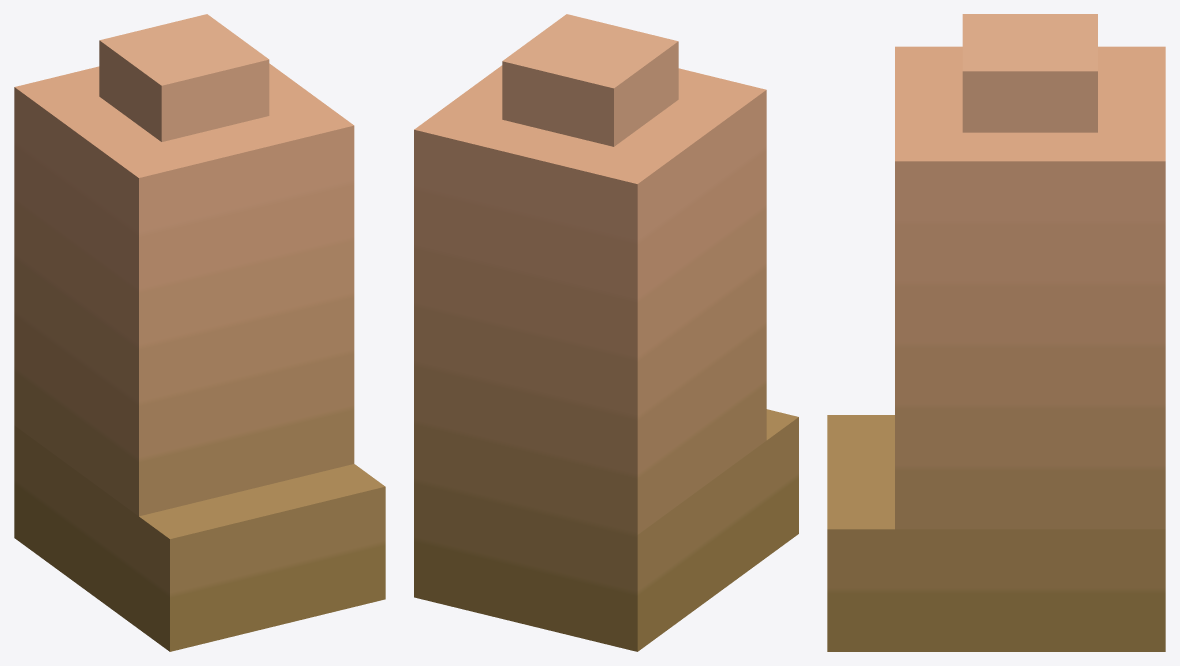
Rendered from Knee080.fbx.
3 views of the same model, side by side, from view 1: azimuth 30°, elevation 25°; view 2: azimuth 150°, elevation 25°; view 3: azimuth 270°, elevation 25° (orthographic). The views are drawn at different scales.
Parts seen in each view (by area): view 1: Knee080; view 2: Knee080; view 3: Knee080.
Boxes of the visible parts, bbox=[...] form: Knee080: bbox=[14, 14, 385, 651]; Knee080: bbox=[414, 14, 798, 651]; Knee080: bbox=[827, 14, 1165, 651].
Size of the model in its own units: 4 by 9 by 5.
